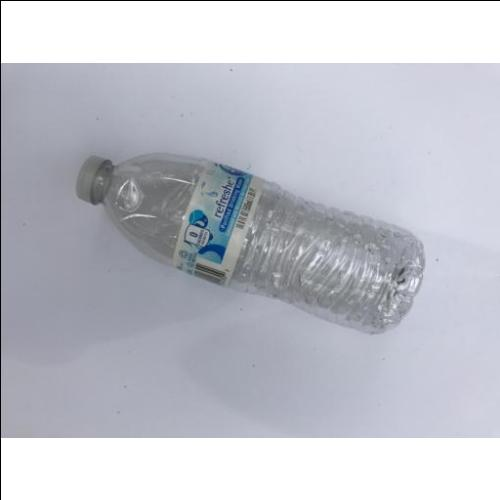plastic: (78, 151, 425, 334)
